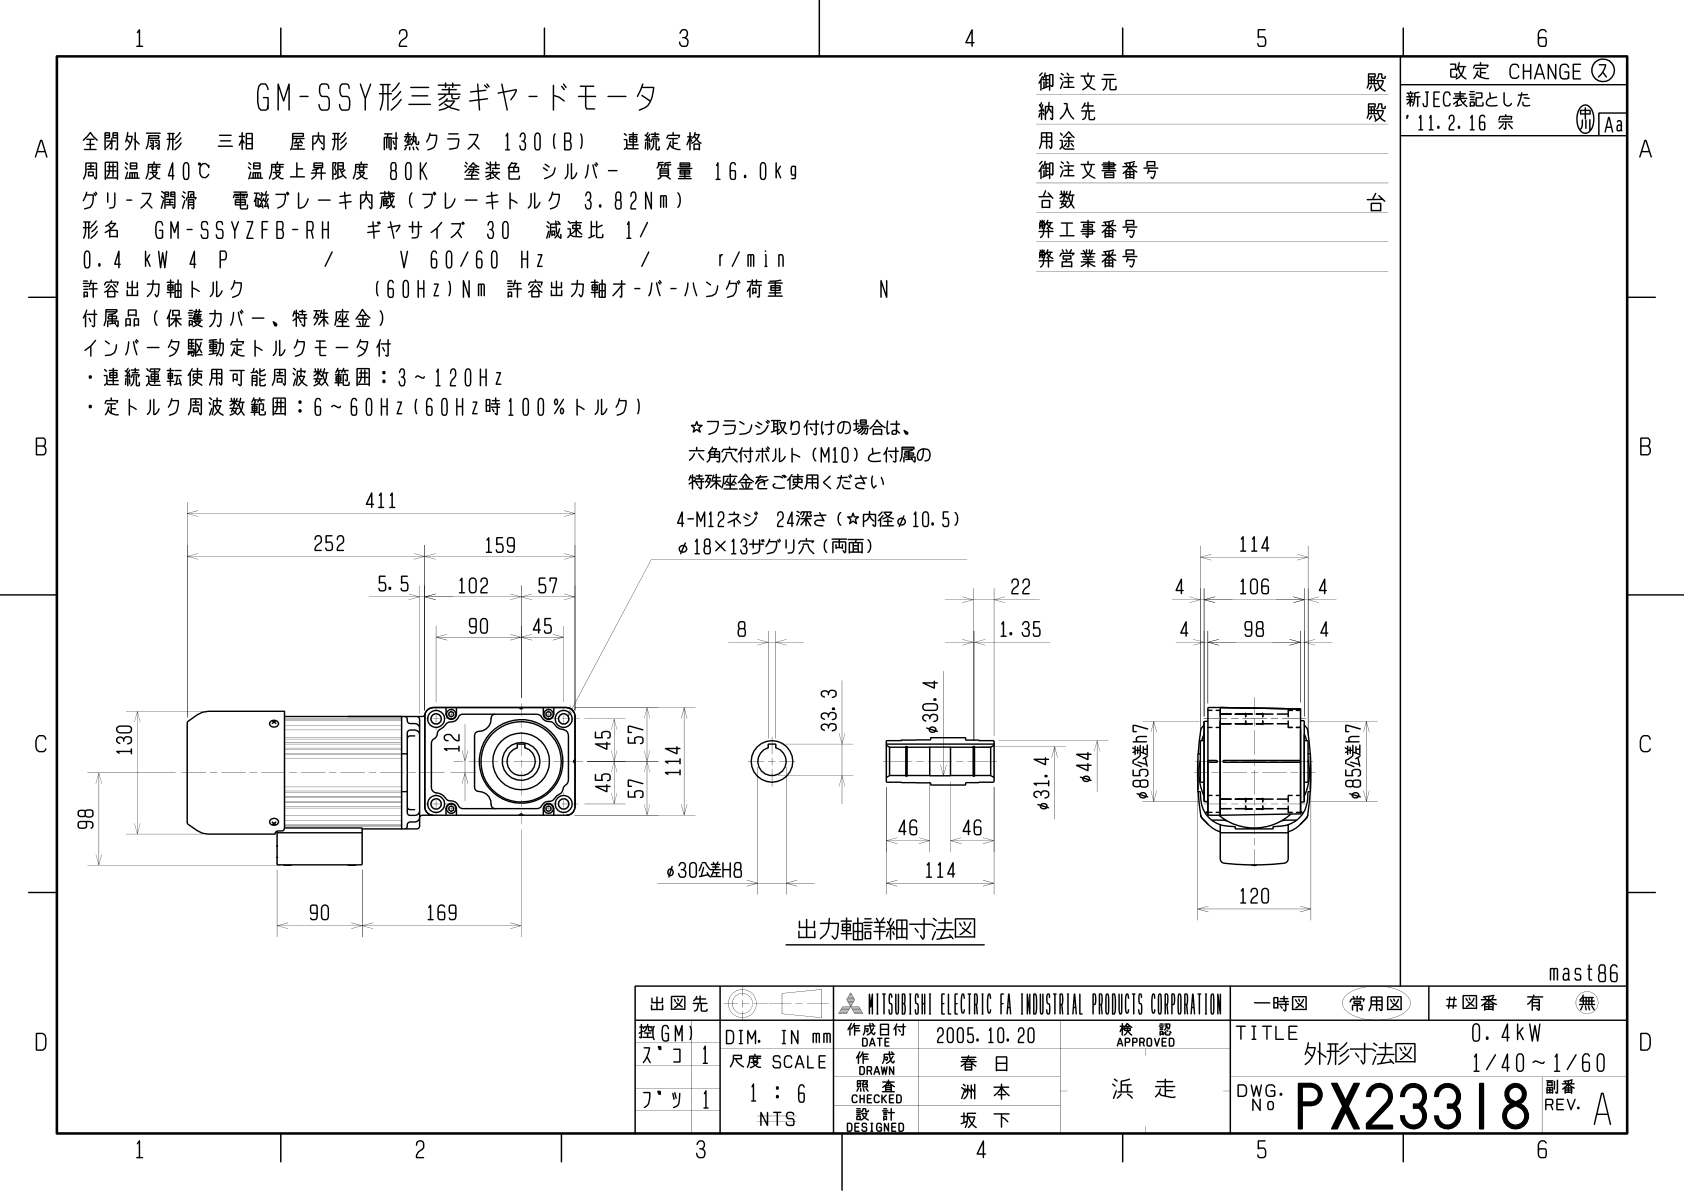GM_SSY_インバータ屋内_三相: (61, 427, 1385, 967)
